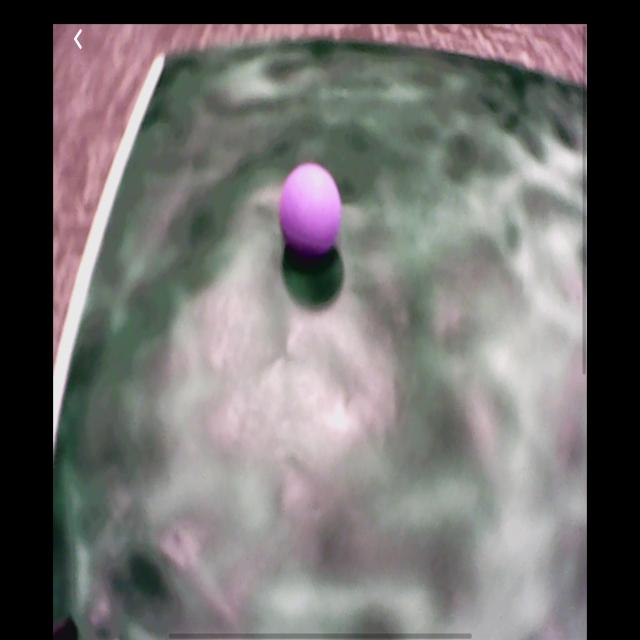ball: (281, 166, 341, 250)
